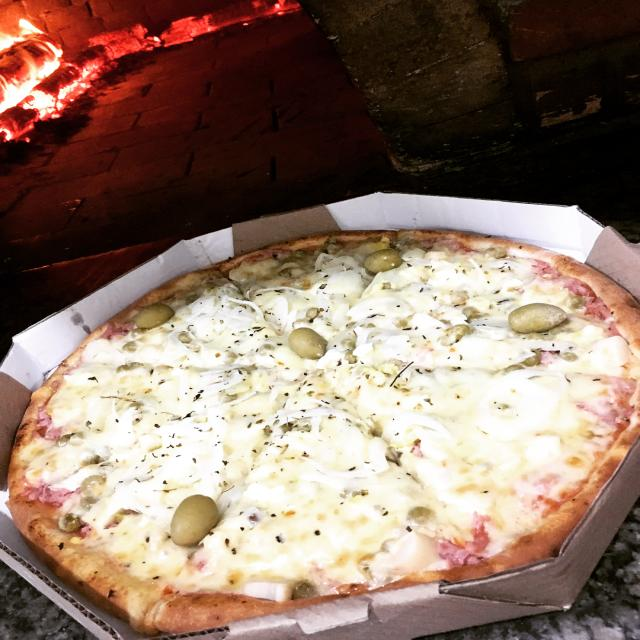green_olives: (170, 495, 219, 546), (509, 303, 567, 333), (289, 328, 328, 360), (136, 302, 175, 328), (364, 249, 403, 273)
pizza: (7, 230, 638, 632)
